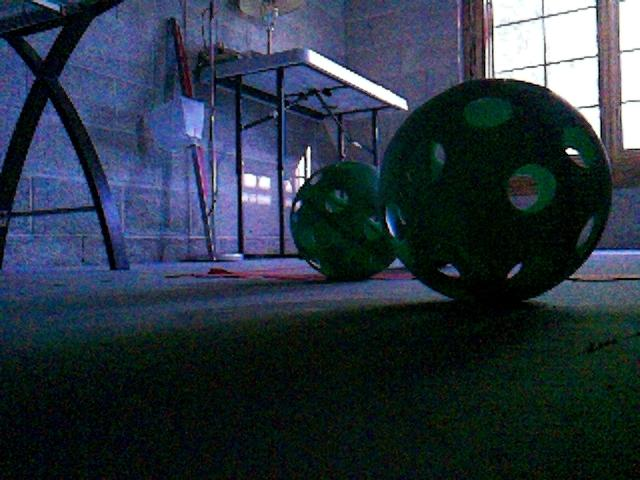Green: (379, 80, 612, 301), (290, 160, 399, 280)
